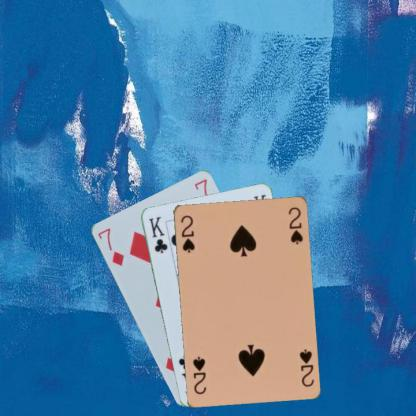2s: (296, 346, 315, 388), (178, 212, 196, 254)
7d: (95, 224, 125, 268)
Kc: (146, 213, 169, 254)
